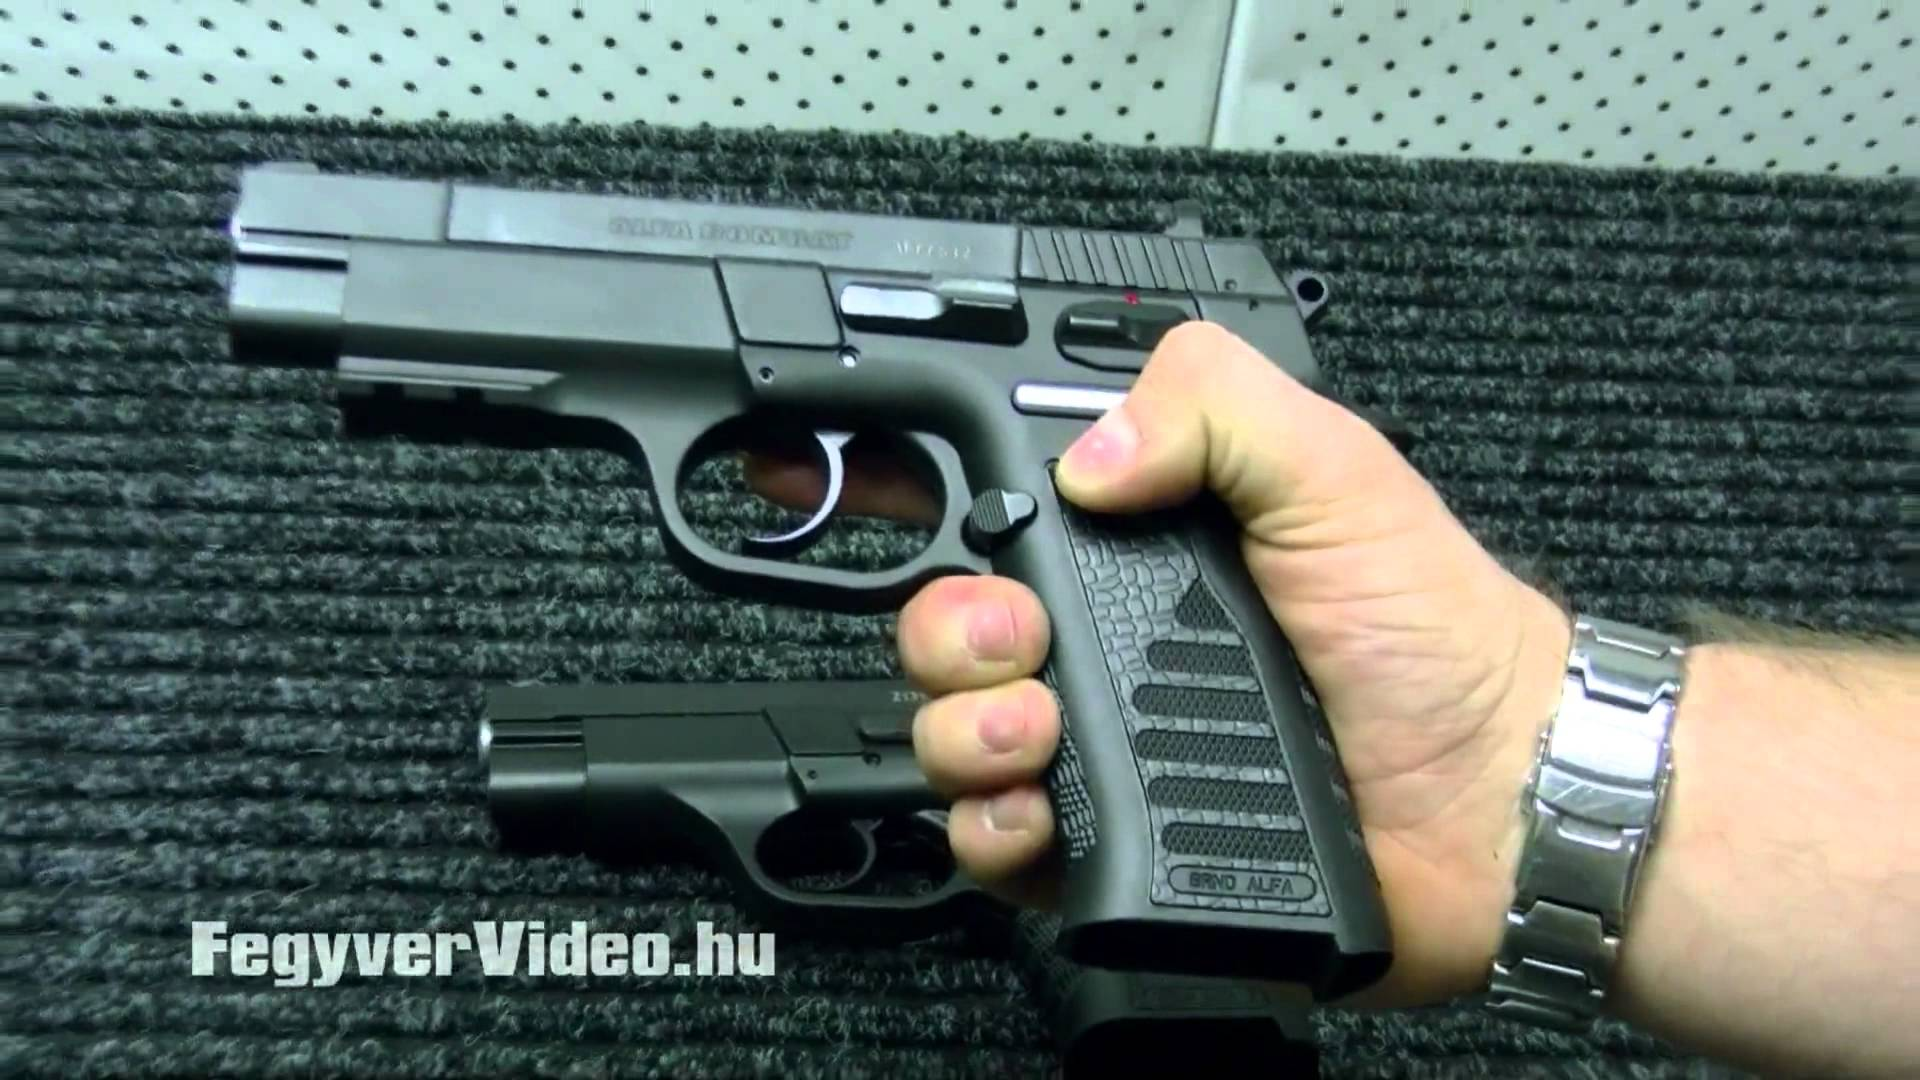gun: (210, 146, 1476, 1069)
